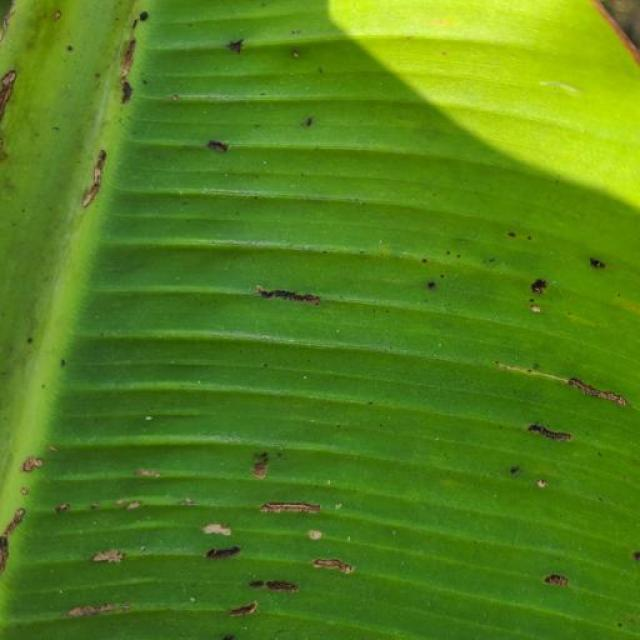Black_rot: (0, 406, 375, 640), (8, 1, 353, 211), (476, 356, 640, 632), (411, 204, 633, 330), (255, 269, 336, 323)
